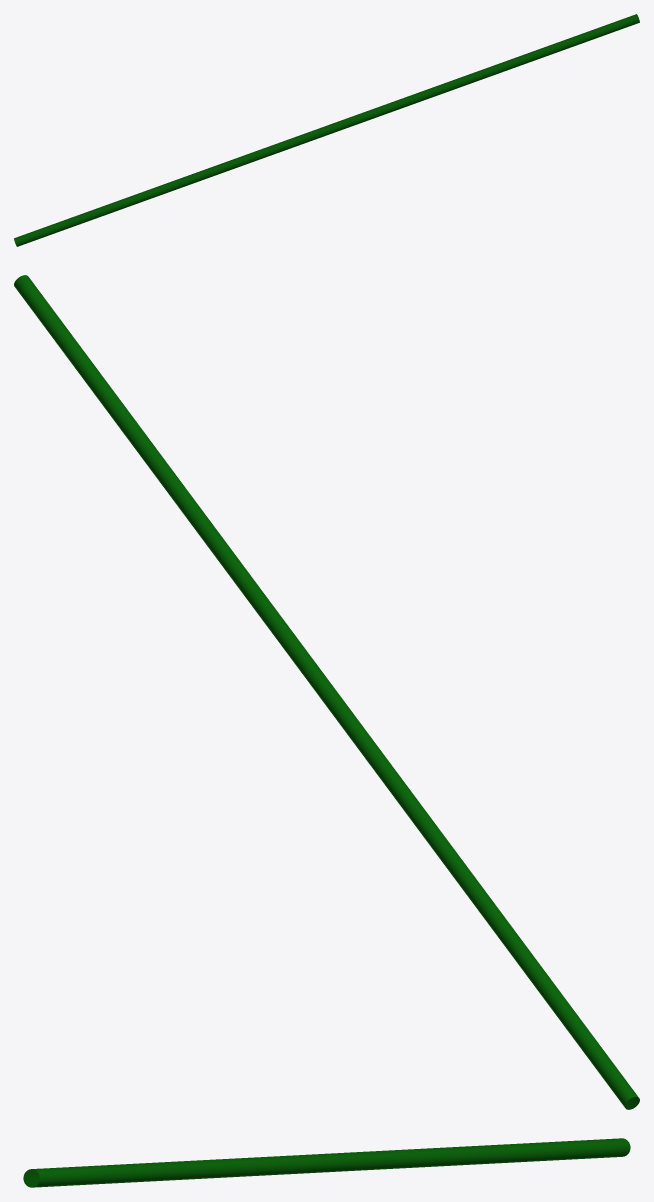
File: Event_421364160_jet_0.fbx
3 renders of one model, top to bottom at view 1: azimuth 30°, elevation 25°; view 2: azimuth 150°, elevation 25°; view 3: azimuth 270°, elevation 25°, orthographic. The views are drawn at different scales.
Parts seen in each view (by area): view 1: Model; view 2: Model; view 3: Model.
Part boxes in pixels (x1,y1,x2,y2): Model: (14,14,639,246); Model: (14,275,639,1109); Model: (23,1138,630,1187).
Bounding box in the file's own units: 2.39 × 1.07 × 1.31.
